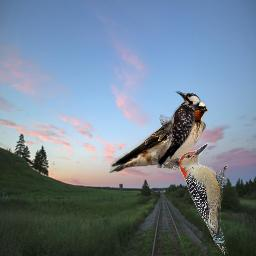Swallow: (109, 98, 209, 173)
Woodpecker: (179, 142, 228, 255), (155, 90, 205, 171)
